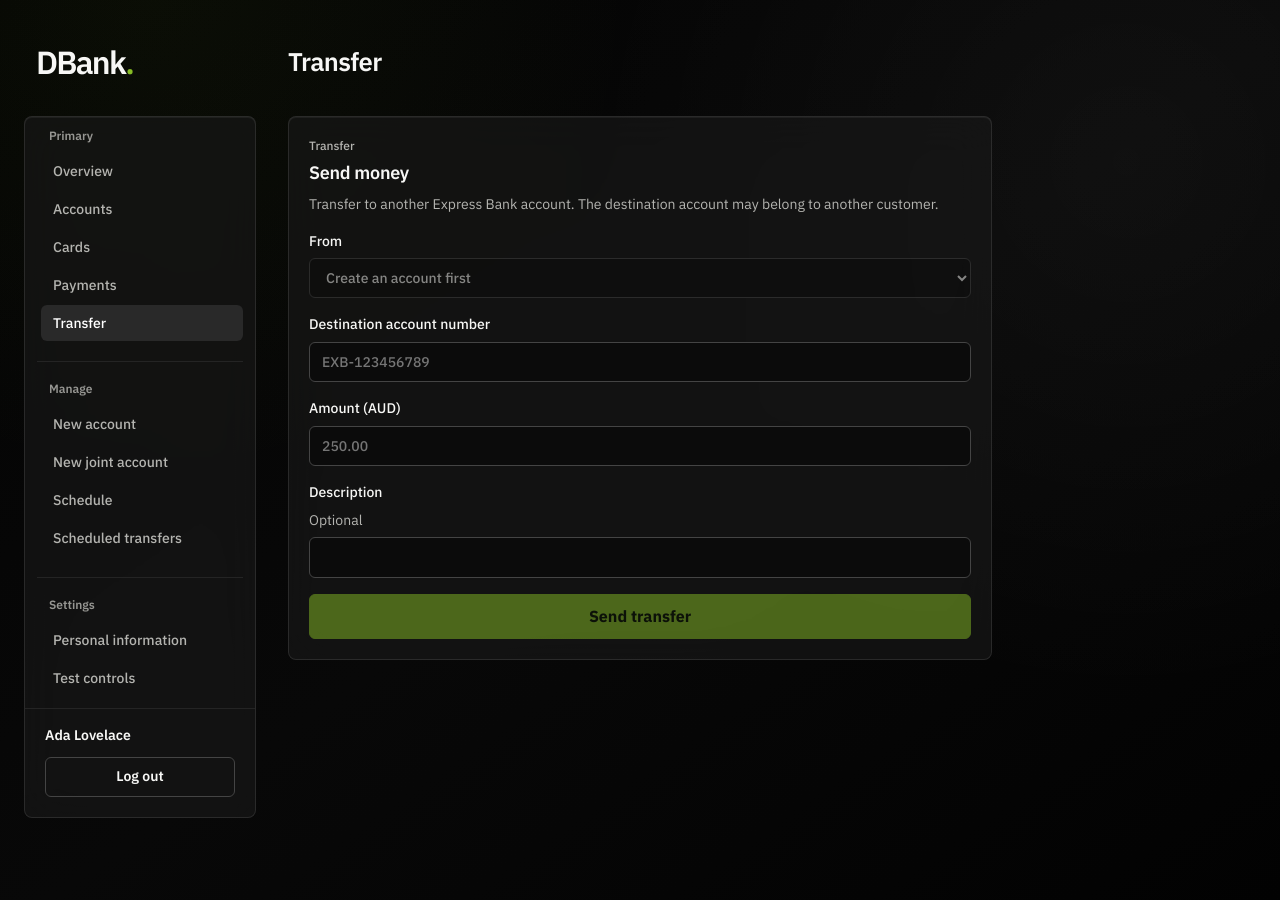
Test: Dashboard banking functions › parses AUD exactly, submits cents and refreshes balances after transfer
Expected: the form with test id "transfer-form" is shown, [309, 231, 971, 639]
Type "EXB-000000002" into the field with test id "transfer-destination-account" at (640, 362), box [309, 342, 971, 382]
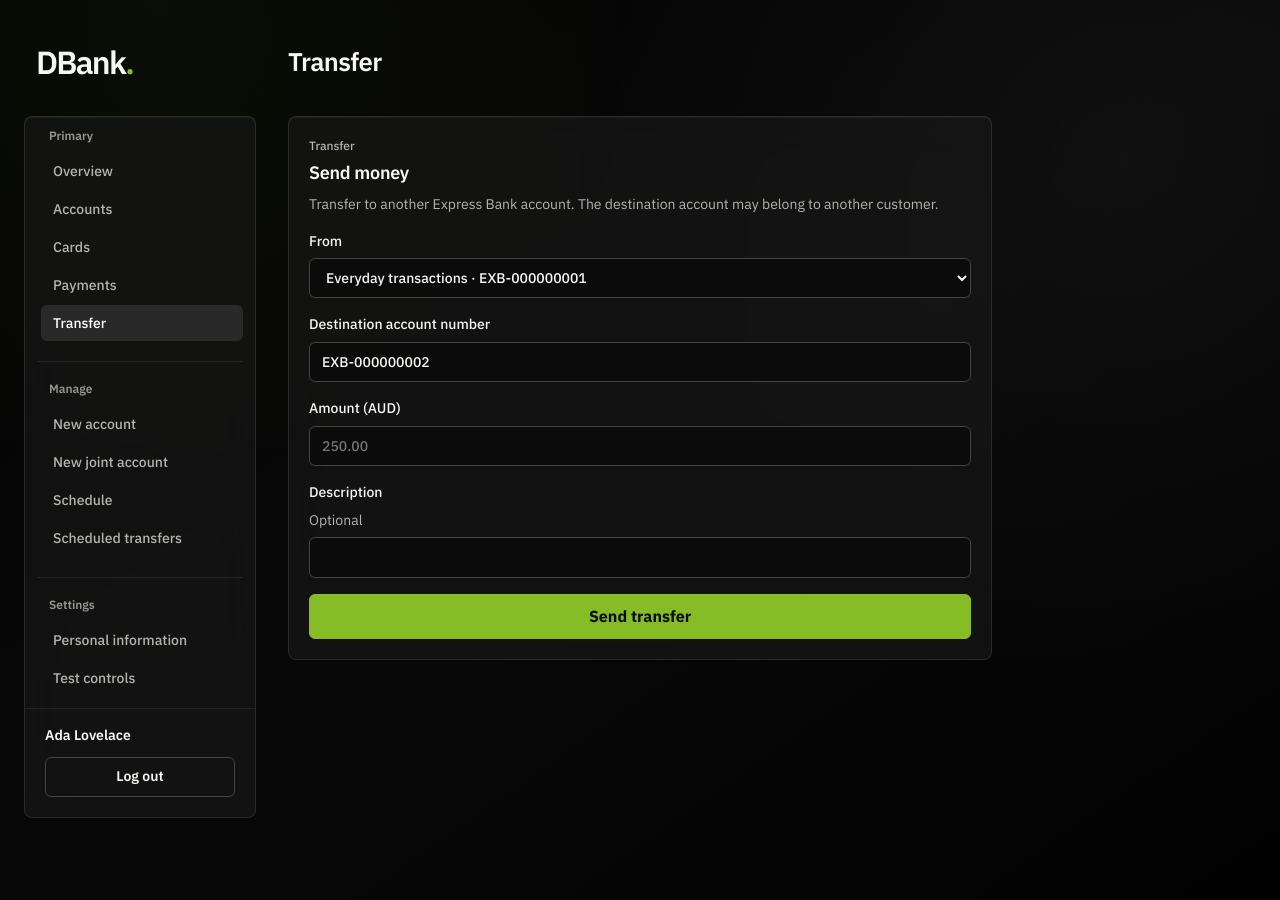
Type "12.34" into the field with test id "transfer-amount" at (640, 446), box [309, 426, 971, 466]
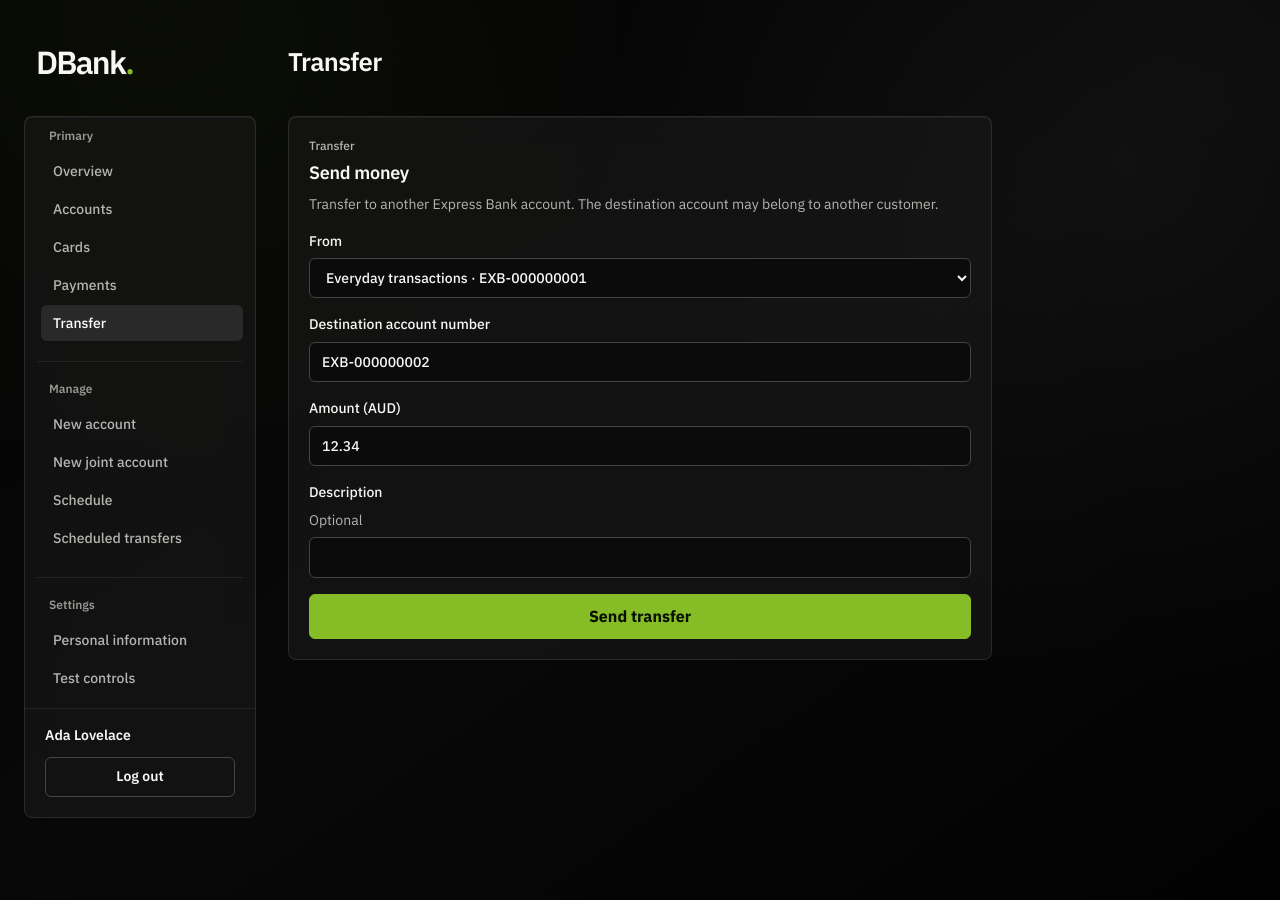
Type "Test transfer" into the field with test id "transfer-description" at (640, 557), box [309, 537, 971, 578]
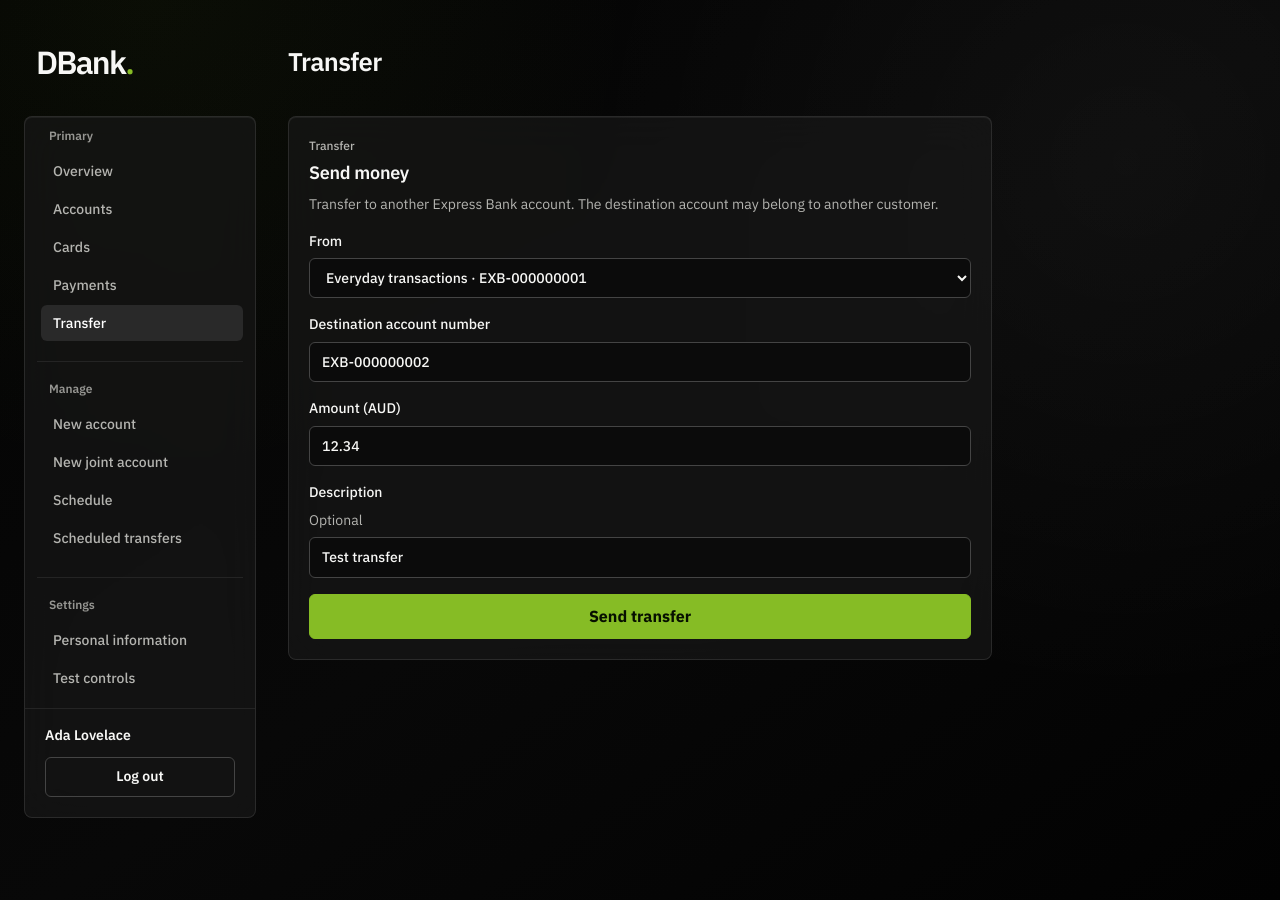
Click the button with test id "transfer-submit" at (640, 616), box [309, 594, 971, 639]
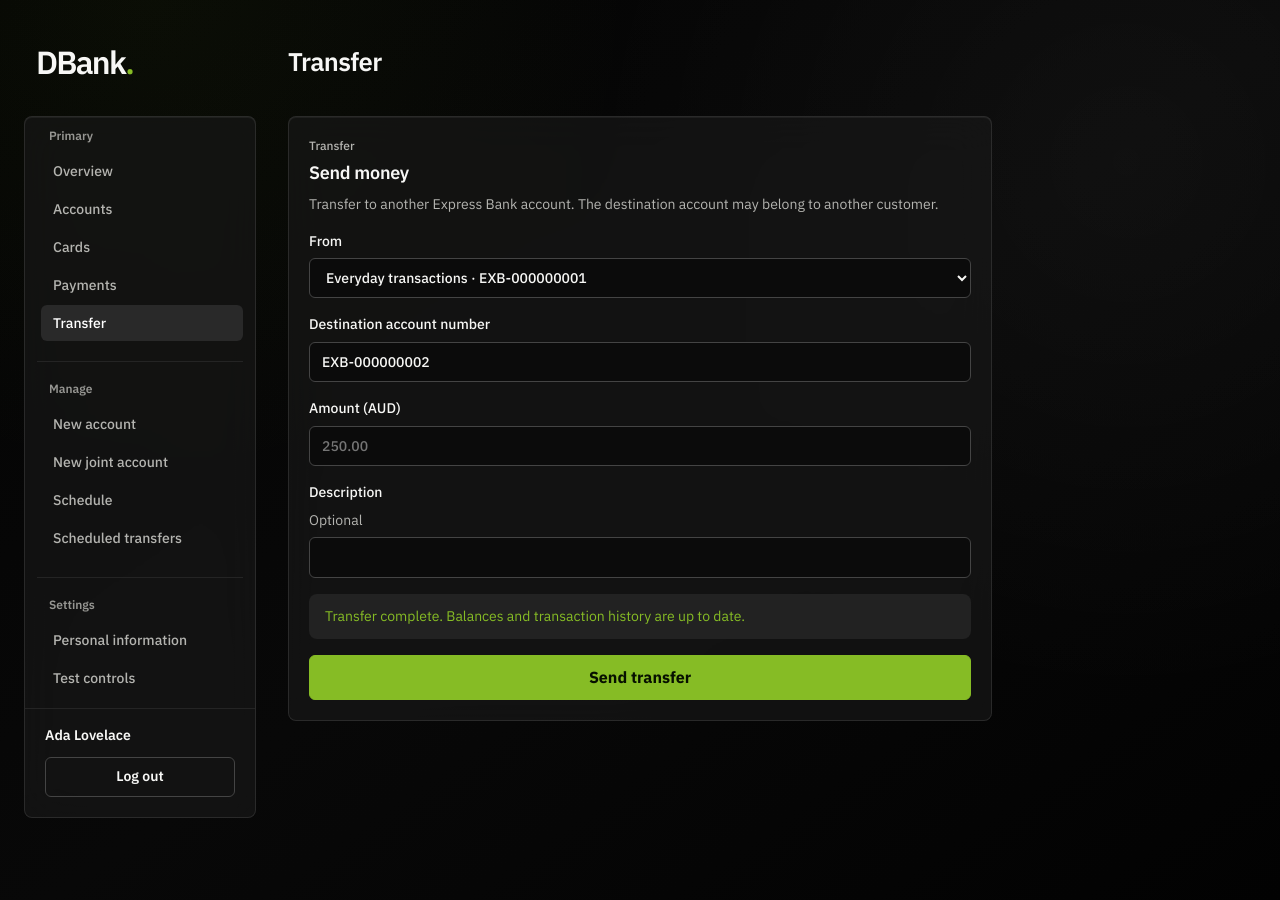
Expected: the message with test id "transfer-message" shows "Transfer complete", [325, 607, 745, 625]
